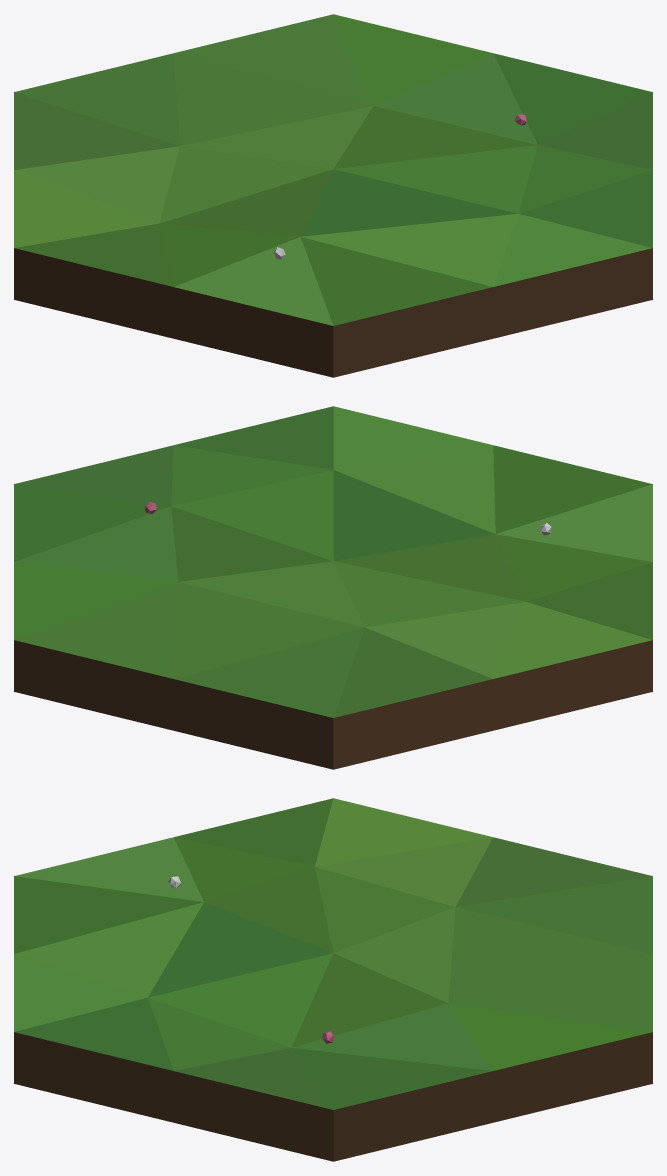
Rendered from Grassland-Far.glb.
3 renders of one model, top to bottom at view 1: azimuth 30°, elevation 25°; view 2: azimuth 150°, elevation 25°; view 3: azimuth 270°, elevation 25°, orthographic.
Visible parts, largest first — view 1: Grassland-Far; view 2: Grassland-Far; view 3: Grassland-Far.
Boxes of the visible parts, <box> form: Grassland-Far: <box>14,14,652,377</box>; Grassland-Far: <box>14,406,652,769</box>; Grassland-Far: <box>14,798,652,1161</box>.
Size of the model in its own units: 1.94 by 0.1862 by 1.68.
